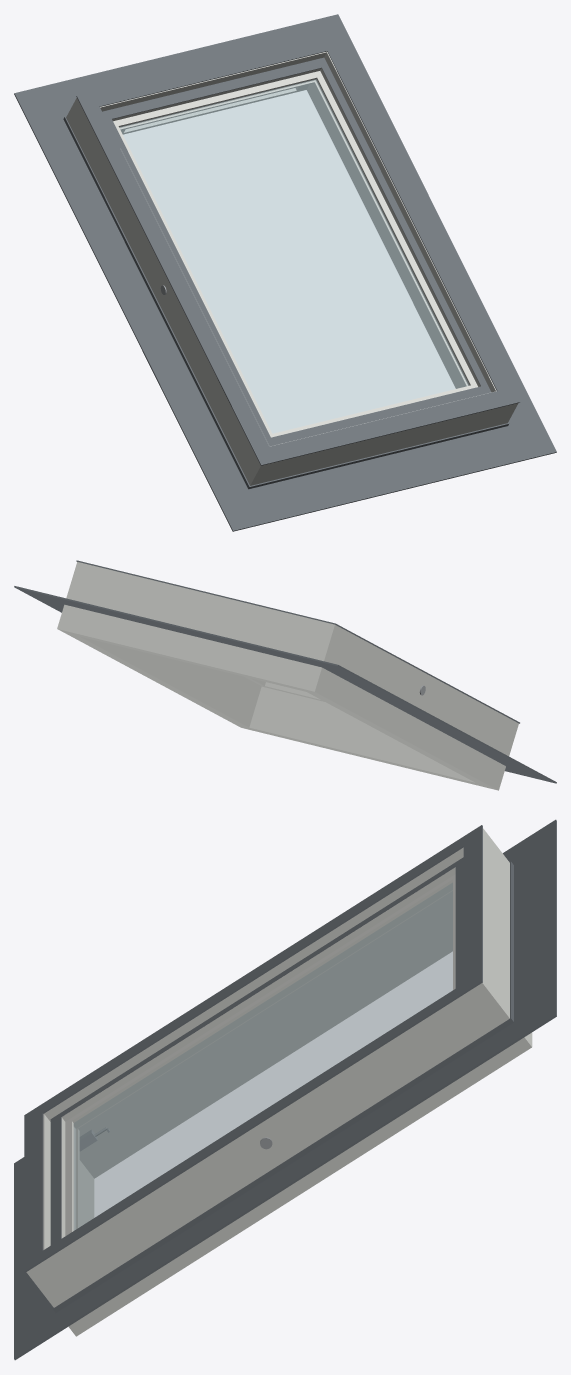
The picture shows the model from 3 angles, top to bottom: view 1: azimuth 30°, elevation 25°; view 2: azimuth 150°, elevation 25°; view 3: azimuth 270°, elevation 25°; orthographic projection. The views are drawn at different scales.
Visible parts, largest first — view 1: 10_Glazing, 02_Flashing_apron, 08_Outer_cladding, 09_Sash_with_glazing_rebate, 11_Sash_front_trim, 03_L_Frame_side_with_bore, 07_Frame_sill, 01_Lining_curb, 03_R_Frame_side_with_bore, 06_Frame_head, 14_Released_vent_bar; view 2: 01_Lining_curb, 06_Frame_head, 03_L_Frame_side_with_bore, 02_Flashing_apron, 03_R_Frame_side_with_bore, 07_Frame_sill, 08_Outer_cladding, 09_Sash_with_glazing_rebate; view 3: 10_Glazing, 02_Flashing_apron, 03_R_Frame_side_with_bore, 01_Lining_curb, 08_Outer_cladding, 09_Sash_with_glazing_rebate, 03_L_Frame_side_with_bore, 11_Sash_front_trim, 06_Frame_head, 07_Frame_sill.
Boxes of the visible parts, x1,y1,x2,y2 form: 10_Glazing: [119, 79, 469, 433]; 02_Flashing_apron: [14, 14, 556, 531]; 08_Outer_cladding: [76, 32, 519, 465]; 09_Sash_with_glazing_rebate: [112, 68, 480, 437]; 11_Sash_front_trim: [102, 57, 491, 446]; 03_L_Frame_side_with_bore: [66, 98, 275, 485]; 07_Frame_sill: [266, 391, 502, 481]; 01_Lining_curb: [123, 83, 465, 388]; 03_R_Frame_side_with_bore: [324, 52, 518, 426]; 06_Frame_head: [100, 51, 326, 111]; 14_Released_vent_bar: [122, 88, 301, 133]; 01_Lining_curb: [57, 604, 505, 790]; 06_Frame_head: [82, 565, 319, 657]; 03_L_Frame_side_with_bore: [308, 621, 518, 756]; 02_Flashing_apron: [14, 586, 556, 783]; 03_R_Frame_side_with_bore: [66, 562, 261, 698]; 07_Frame_sill: [258, 686, 368, 725]; 08_Outer_cladding: [76, 560, 519, 723]; 09_Sash_with_glazing_rebate: [244, 676, 324, 701]; 10_Glazing: [73, 883, 452, 1230]; 02_Flashing_apron: [14, 819, 556, 1360]; 03_R_Frame_side_with_bore: [26, 975, 509, 1307]; 01_Lining_curb: [68, 910, 532, 1336]; 08_Outer_cladding: [24, 825, 482, 1272]; 09_Sash_with_glazing_rebate: [61, 867, 455, 1238]; 03_L_Frame_side_with_bore: [43, 828, 509, 1136]; 11_Sash_front_trim: [50, 857, 463, 1245]; 06_Frame_head: [483, 838, 509, 1008]; 07_Frame_sill: [43, 1114, 50, 1249].
Bounding box in the file's own units: 0.98 × 0.8396 × 1.15.
